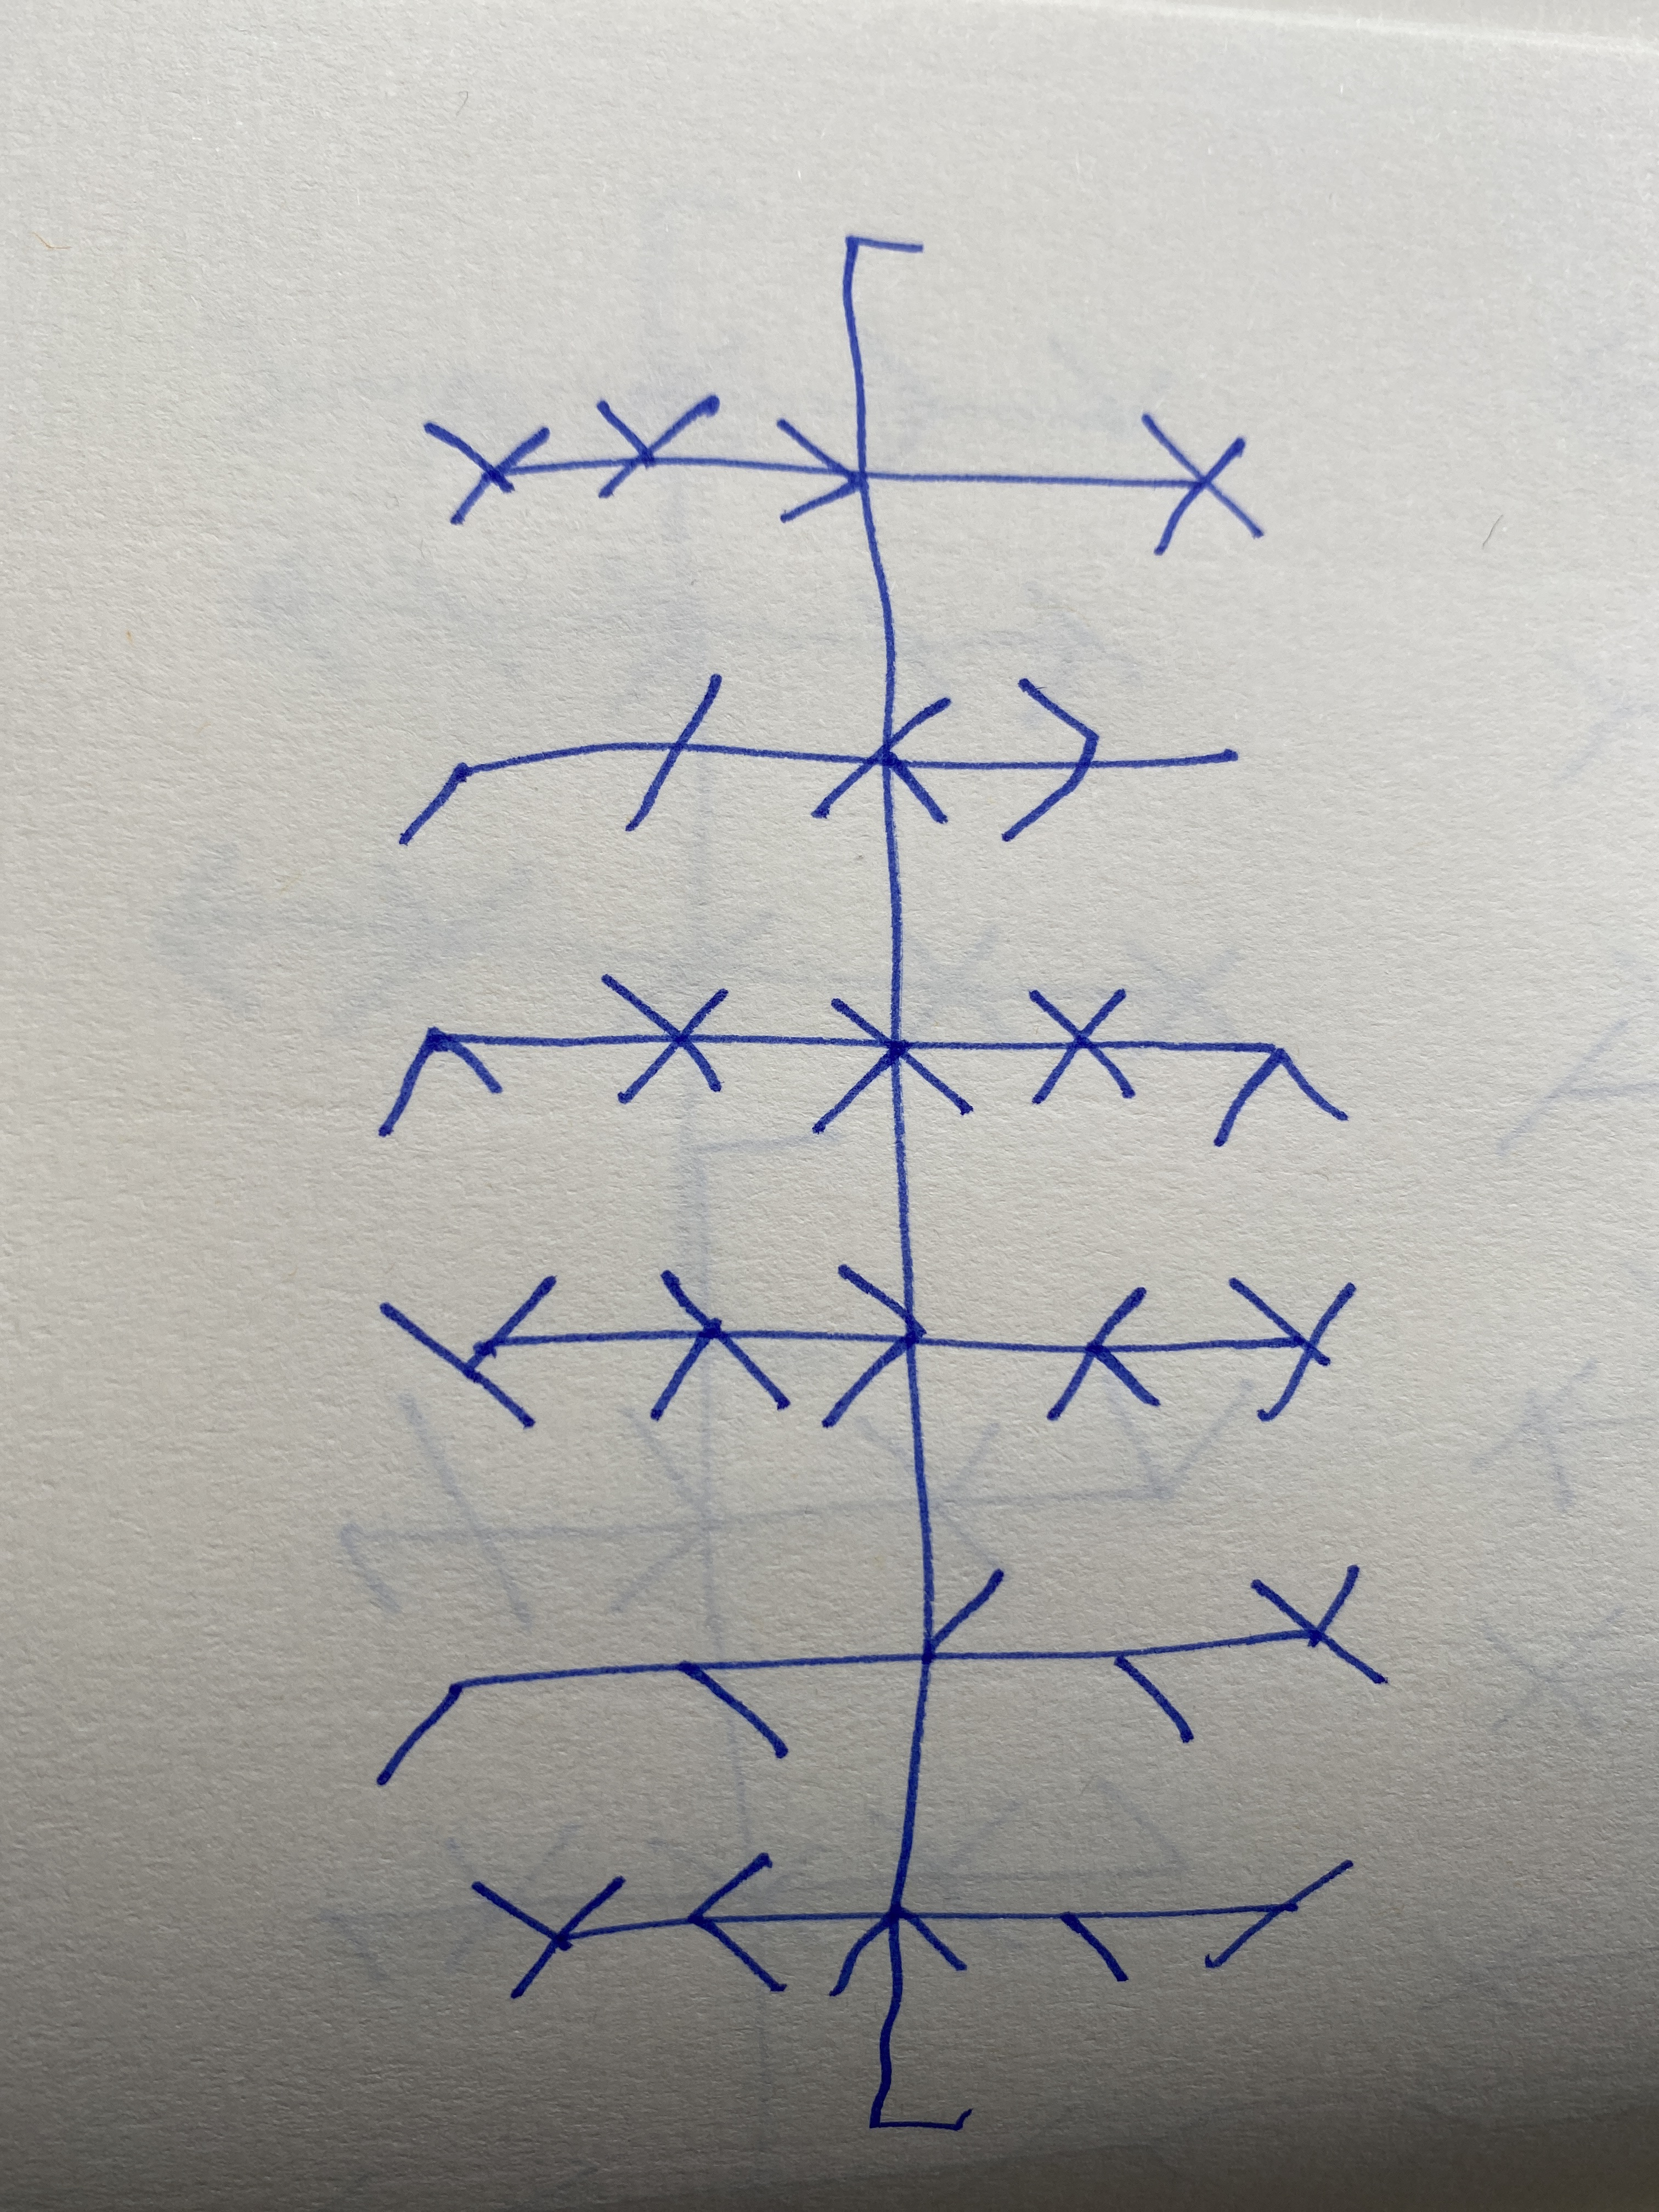Bar: (375, 1564, 1387, 1789), (376, 974, 1354, 1144), (380, 1263, 1358, 1428), (399, 674, 1241, 848), (422, 394, 1263, 557), (471, 1853, 1352, 2000)
Barcode: (373, 230, 1389, 2135)
End: (870, 1972, 974, 2137)
Start: (836, 233, 925, 458)
